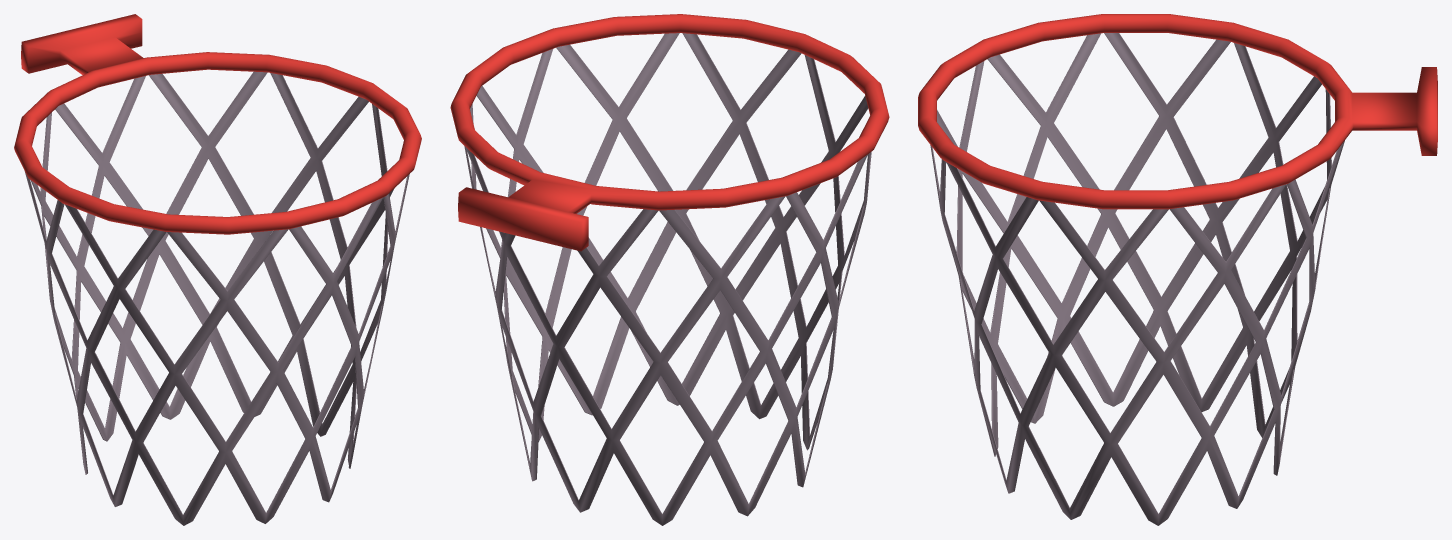
Rendered from Basketball Hoop.fbx.
3 renders of one model, left to right at view 1: azimuth 30°, elevation 25°; view 2: azimuth 150°, elevation 25°; view 3: azimuth 270°, elevation 25°, orthographic. The views are drawn at different scales.
Parts seen in each view (by area): view 1: Net, Torus; view 2: Net, Torus; view 3: Net, Torus.
Part boxes in pixels (x1,y1,x2,y2): Net: (24,71,409,525); Torus: (14,14,421,234); Net: (464,33,871,525); Torus: (450,14,889,251); Net: (930,33,1344,525); Torus: (918,14,1437,209).
Bounding box in the file's own units: 206 × 193 × 246.
